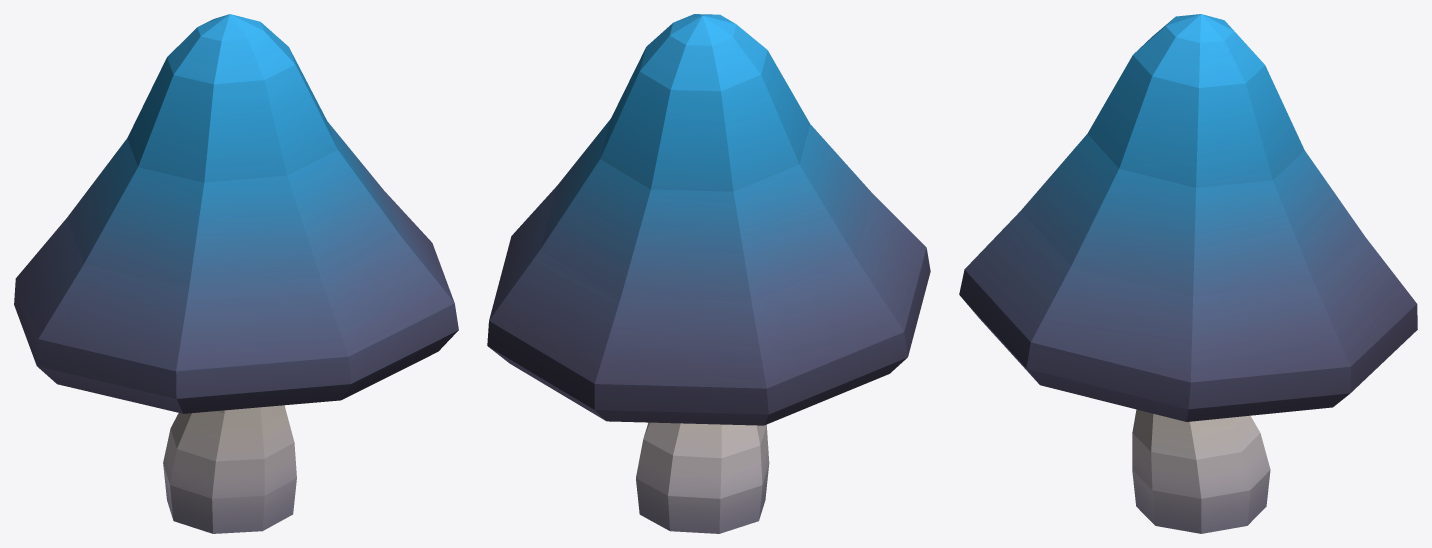
File: Mushroom_Blue.fbx
3 renders of one model, left to right at view 1: azimuth 30°, elevation 25°; view 2: azimuth 150°, elevation 25°; view 3: azimuth 270°, elevation 25°, orthographic.
Parts seen in each view (by area): view 1: Mushroom 4; view 2: Mushroom 4; view 3: Mushroom 4.
Part boxes in pixels (box(x1,y1,x2,y2)): Mushroom 4: box(14, 14, 458, 533); Mushroom 4: box(487, 14, 930, 533); Mushroom 4: box(959, 14, 1417, 533).
Size of the model in its own units: 158 by 186 by 157.
